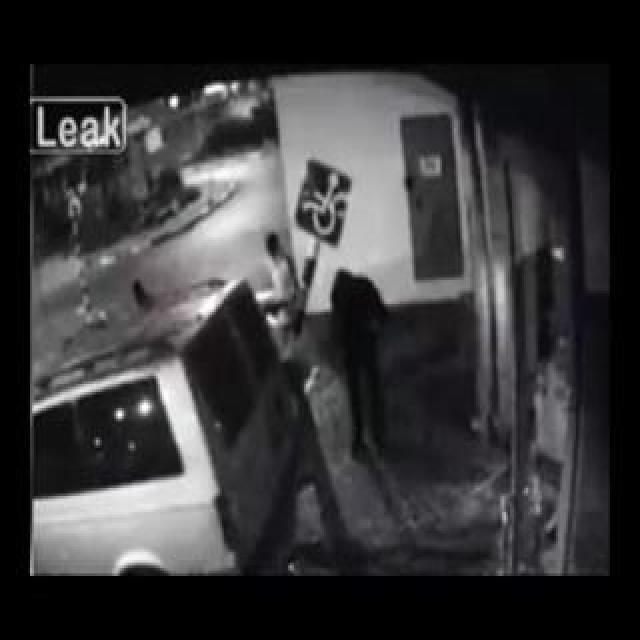thief: (265, 221, 381, 343), (120, 261, 160, 314)
